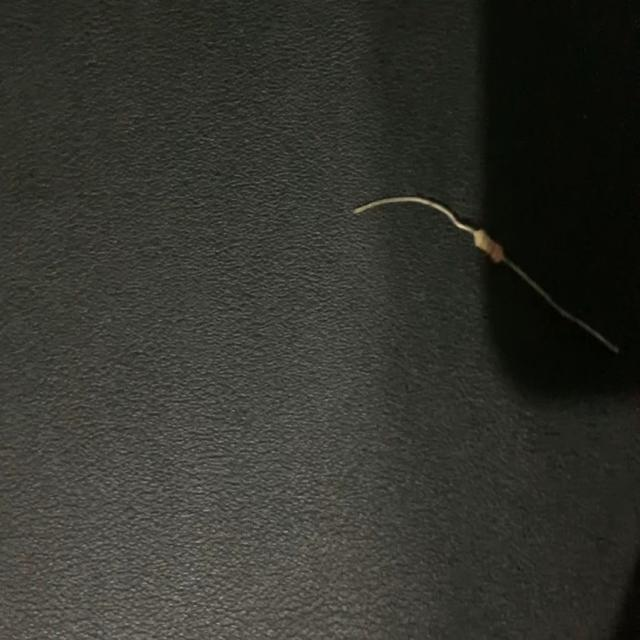resistor: (354, 190, 621, 354)
